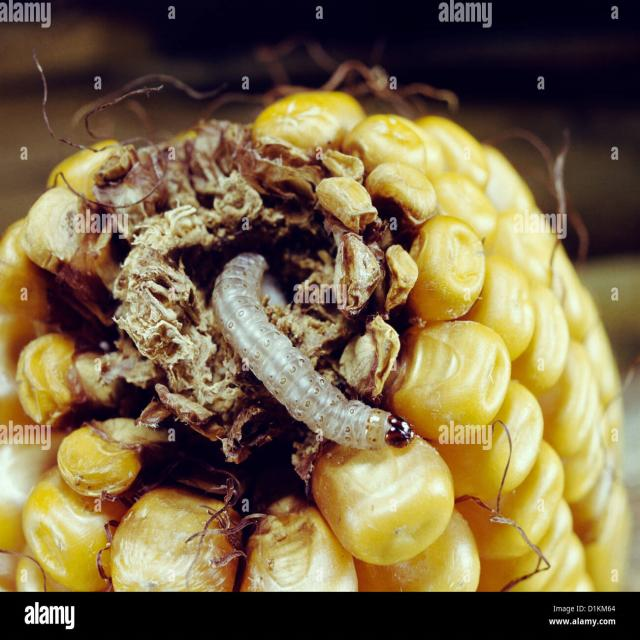cornborer-Larva-: (194, 236, 452, 480)
